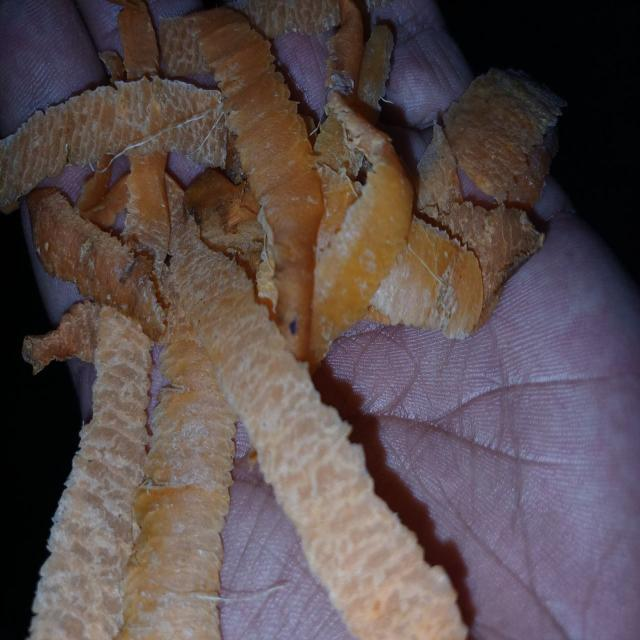organic: (1, 3, 566, 640)
